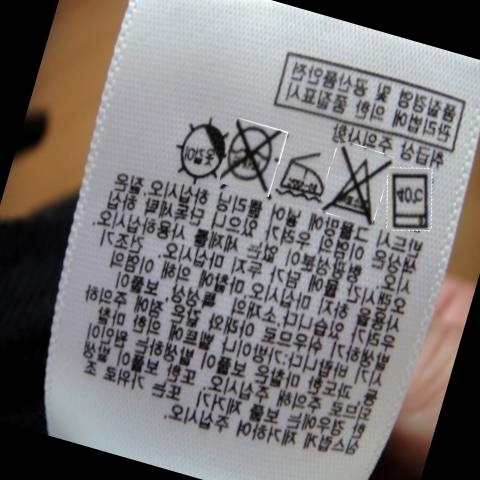40C: (388, 169, 436, 233)
DN_dry_clean: (230, 115, 274, 189)
iron_low: (280, 150, 326, 203)
line_dry_in_shade: (174, 116, 224, 182)
non_chlorine_bleach: (329, 144, 385, 222)
